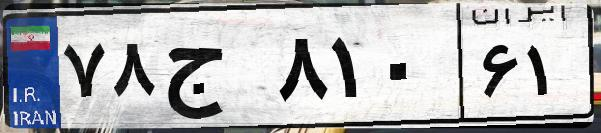0: (385, 28, 445, 110)
1: (330, 28, 385, 110), (525, 38, 570, 115)
6: (475, 38, 525, 113)
7: (57, 26, 110, 100)
8: (270, 28, 330, 110), (110, 28, 158, 98)
ج: (158, 20, 270, 120)
